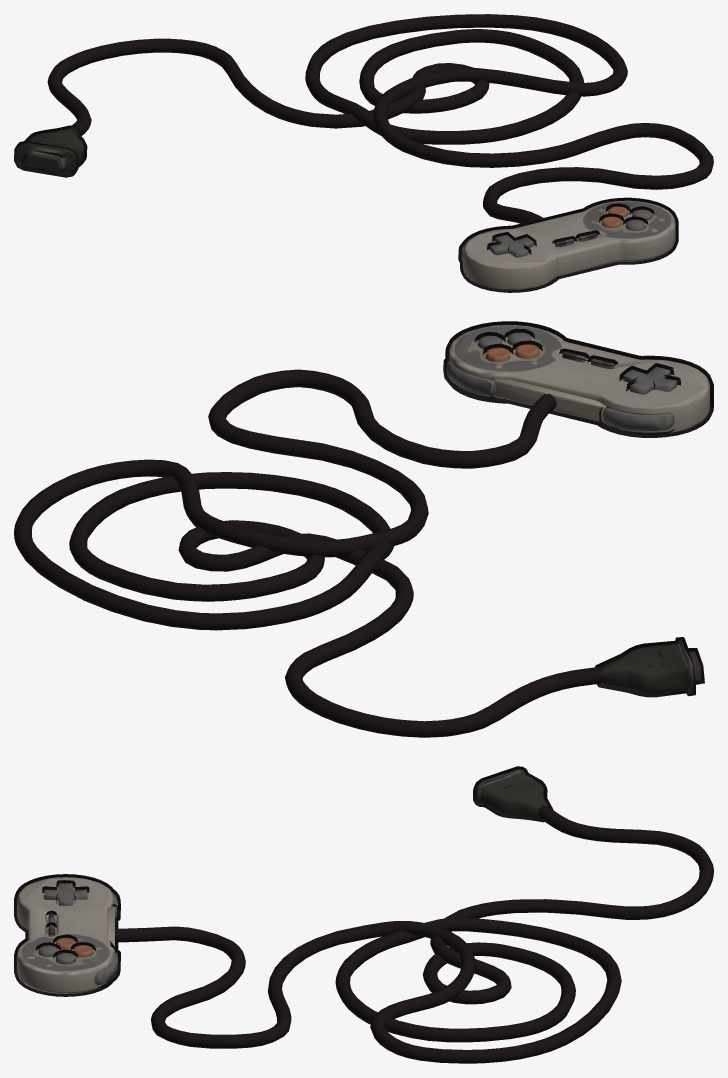
Rendered from SM_Int_Gamepad.fbx.
3 renders of one model, top to bottom at view 1: azimuth 30°, elevation 25°; view 2: azimuth 150°, elevation 25°; view 3: azimuth 270°, elevation 25°, orthographic. The views are drawn at different scales.
Visible parts, largest first — view 1: SM_Int_Gamepad; view 2: SM_Int_Gamepad; view 3: SM_Int_Gamepad.
Part boxes in pixels (x1,y1,x2,y2): SM_Int_Gamepad: (14,14,713,292); SM_Int_Gamepad: (14,321,713,737); SM_Int_Gamepad: (14,766,713,1063).
Bounding box in the file's own units: 0.4081 × 0.0229 × 0.4389.
